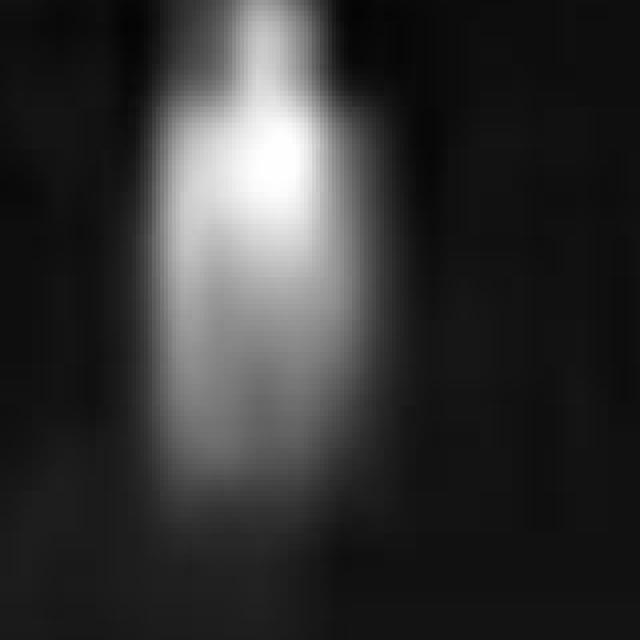person: (129, 1, 377, 502)
